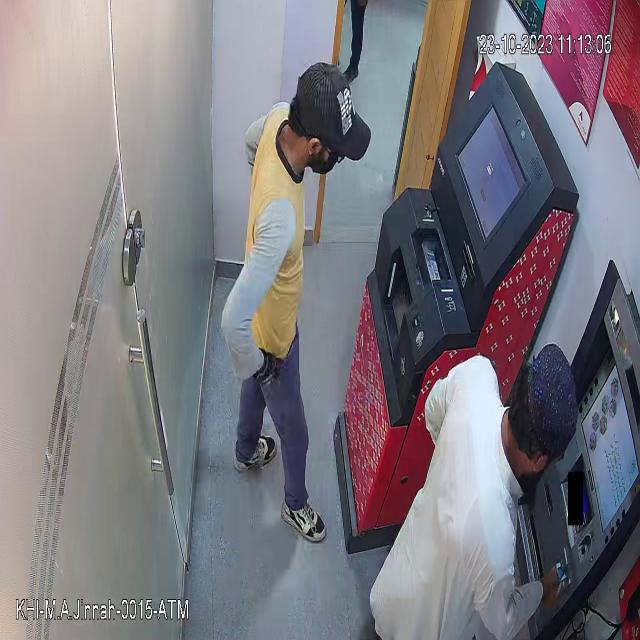atm-card: (551, 554, 570, 589)
